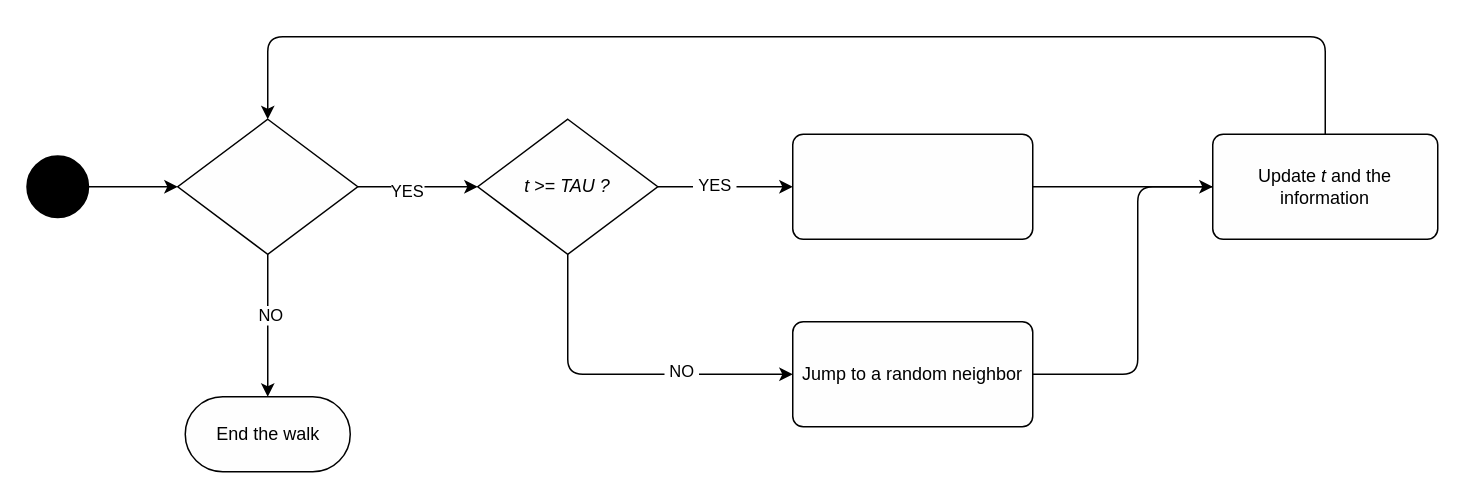
This 1464x498 diagram has some shape labels left out. The shapes that lost their labels are listed below. From the top down, each one's centre as x and y in pixels, then its label:
At (267,186): "Are there any steps left?".
At (912,186): "Jump to a random node".
